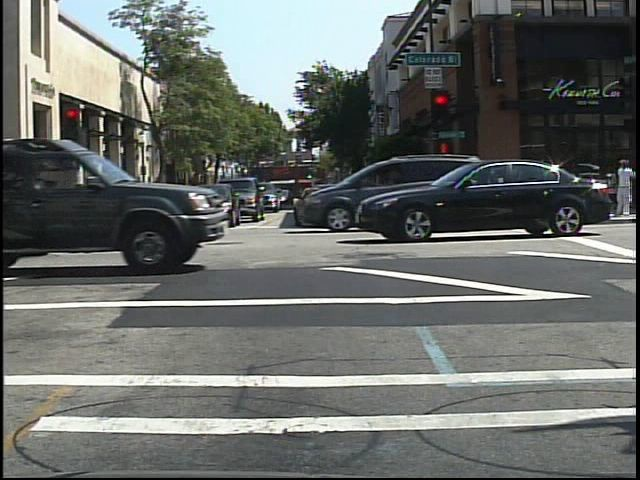person: (614, 153, 637, 218), (163, 180, 181, 220)
